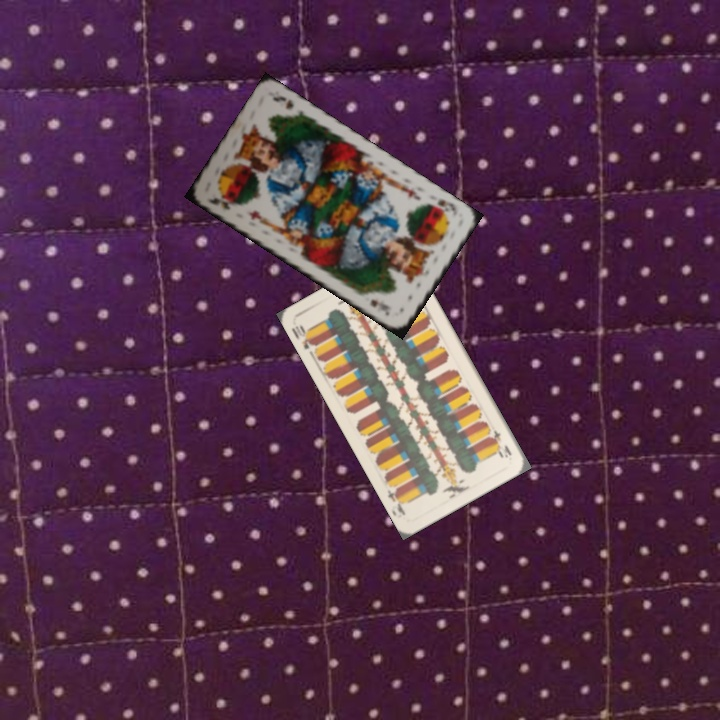E10: (288, 321, 321, 355), (487, 426, 514, 460)
SK: (424, 195, 460, 219), (203, 193, 233, 213)
